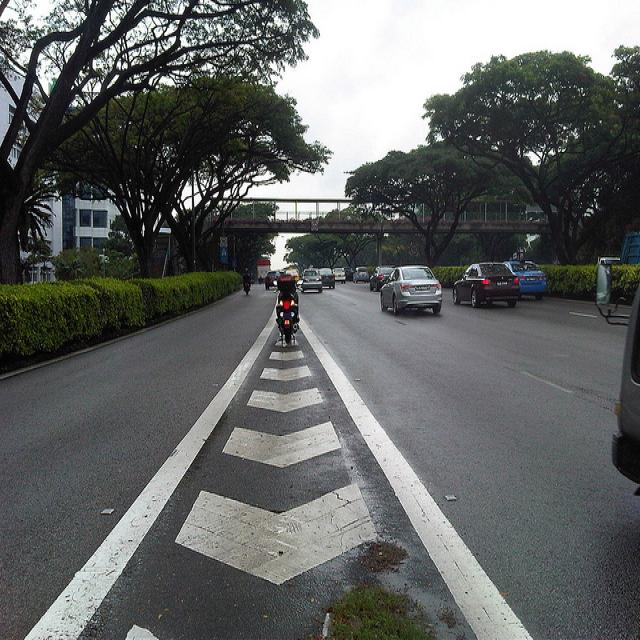motor: (276, 290, 300, 339)
